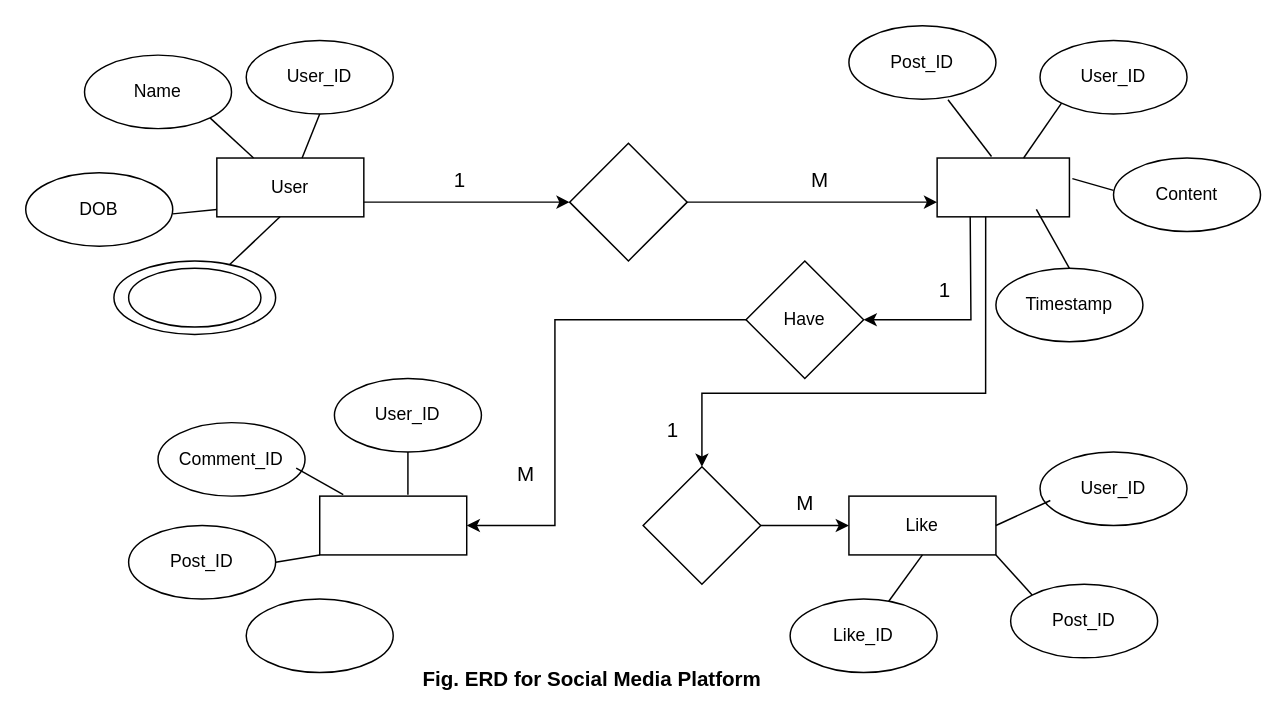
This 1286x728 diagram has some shape labels left out. The centre of each missing label's shape, as x and y in pixels:
Comment: point 392,525
Comment_Text: point 319,635
Create: point 627,201
Email: point 194,297
Has: point 701,524
Post: point 1002,187
